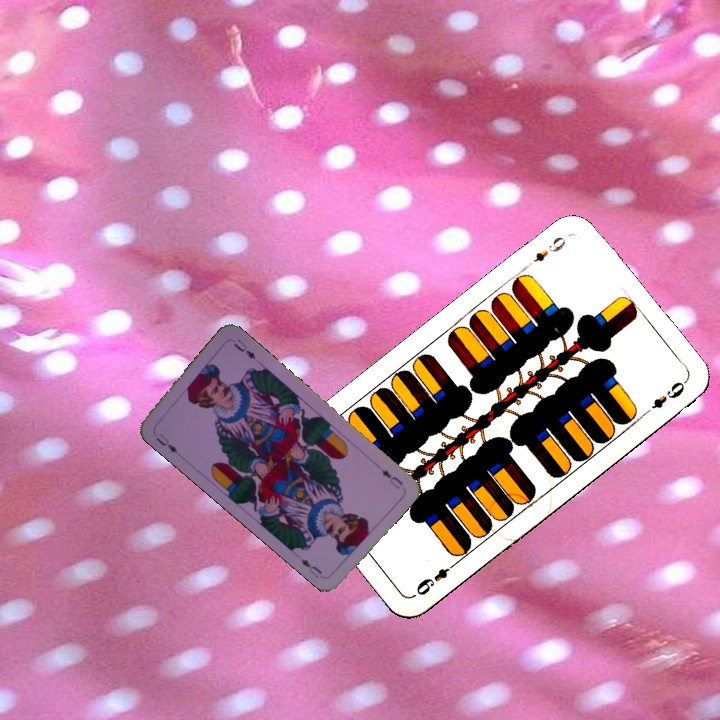E9: (412, 557, 460, 599), (529, 232, 569, 265)
EU: (377, 465, 406, 492), (152, 430, 180, 456)
